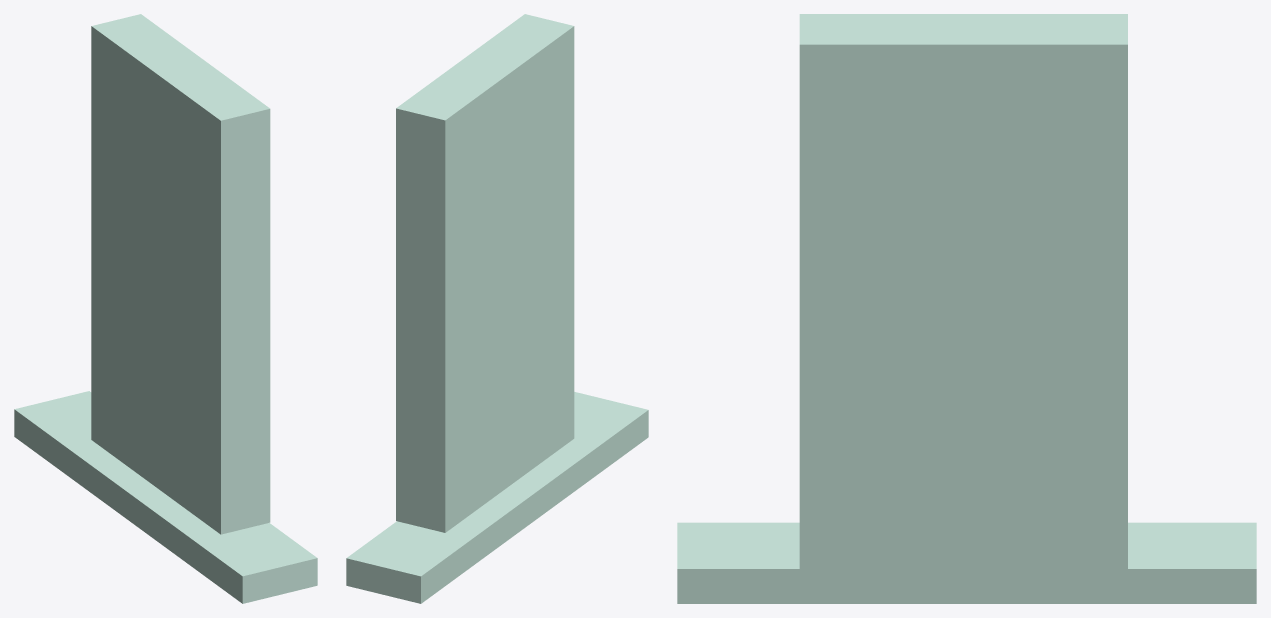
The picture shows the model from 3 angles, left to right: view 1: azimuth 30°, elevation 25°; view 2: azimuth 150°, elevation 25°; view 3: azimuth 270°, elevation 25°; orthographic projection. The views are drawn at different scales.
Parts seen in each view (by area): view 1: Renderer Node; view 2: Renderer Node; view 3: Renderer Node.
Boxes of the visible parts, box(x1,y1,x2,y2) form: Renderer Node: box(14, 14, 317, 603); Renderer Node: box(346, 14, 648, 603); Renderer Node: box(677, 14, 1256, 603).
Bounding box in the file's own units: 0.135 × 0.75 × 0.7031.
